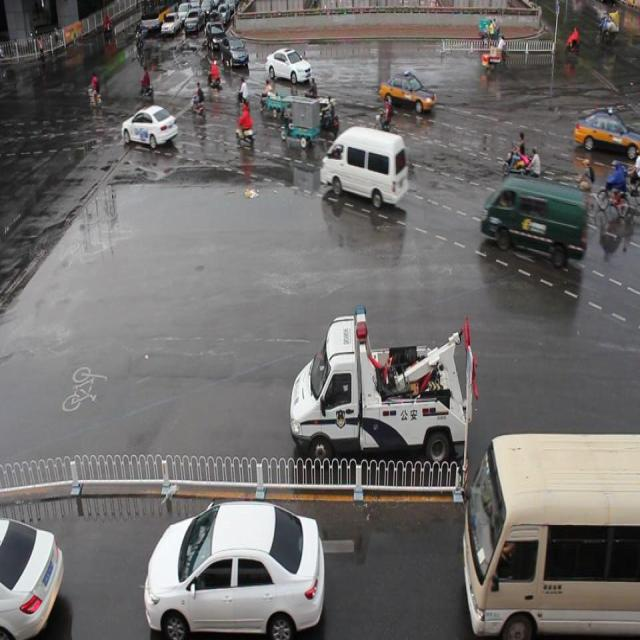bus: (289, 300, 477, 467)
car: (144, 498, 324, 640), (0, 513, 64, 640), (572, 107, 640, 159), (120, 103, 179, 151), (380, 68, 436, 115), (265, 44, 311, 85), (220, 34, 250, 70), (206, 20, 227, 52)
truck: (458, 429, 640, 640), (477, 174, 587, 265), (319, 127, 408, 207)
